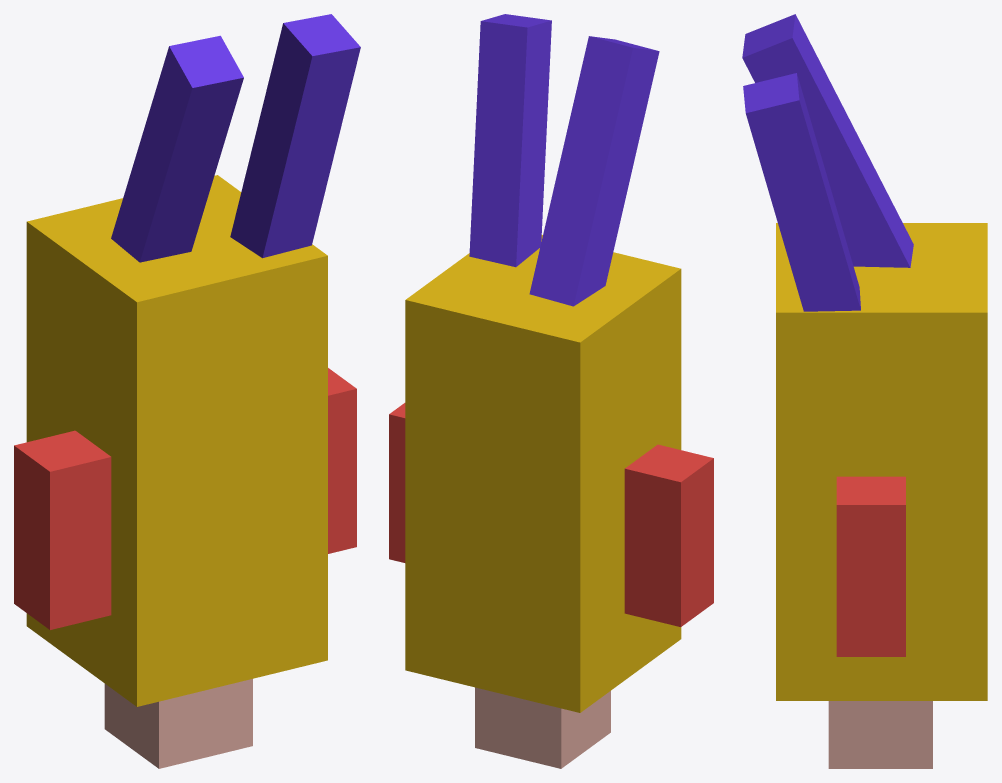
The picture shows the model from 3 angles, left to right: view 1: azimuth 30°, elevation 25°; view 2: azimuth 150°, elevation 25°; view 3: azimuth 270°, elevation 25°; orthographic projection. The views are drawn at different scales.
Parts seen in each view (by area): view 1: Cube.001, Cube.004, Cube.002, Cube.005, Cube, Cube.003; view 2: Cube.001, Cube.005, Cube.004, Cube.002, Cube, Cube.003; view 3: Cube.001, Cube.004, Cube.005, Cube.003, Cube.
Part boxes in pixels (left/top/right/bottom): Cube.001: left=26, top=175, right=327, bottom=706; Cube.004: left=230, top=14, right=360, bottom=258; Cube.002: left=14, top=430, right=111, bottom=629; Cube.005: left=111, top=35, right=243, bottom=262; Cube: left=104, top=679, right=252, bottom=768; Cube.003: left=328, top=368, right=356, bottom=553; Cube.001: left=405, top=235, right=681, bottom=712; Cube.005: left=529, top=36, right=659, bottom=306; Cube.004: left=469, top=14, right=551, bottom=267; Cube.002: left=624, top=444, right=713, bottom=626; Cube: left=475, top=687, right=610, bottom=768; Cube.003: left=389, top=403, right=405, bottom=562; Cube.001: left=776, top=223, right=987, bottom=700; Cube.004: left=743, top=73, right=860, bottom=311; Cube.005: left=742, top=14, right=913, bottom=267; Cube.003: left=836, top=476, right=905, bottom=656; Cube: left=828, top=701, right=932, bottom=768.
Bounding box in the file's own units: 5.74 × 12.92 × 4.06.
